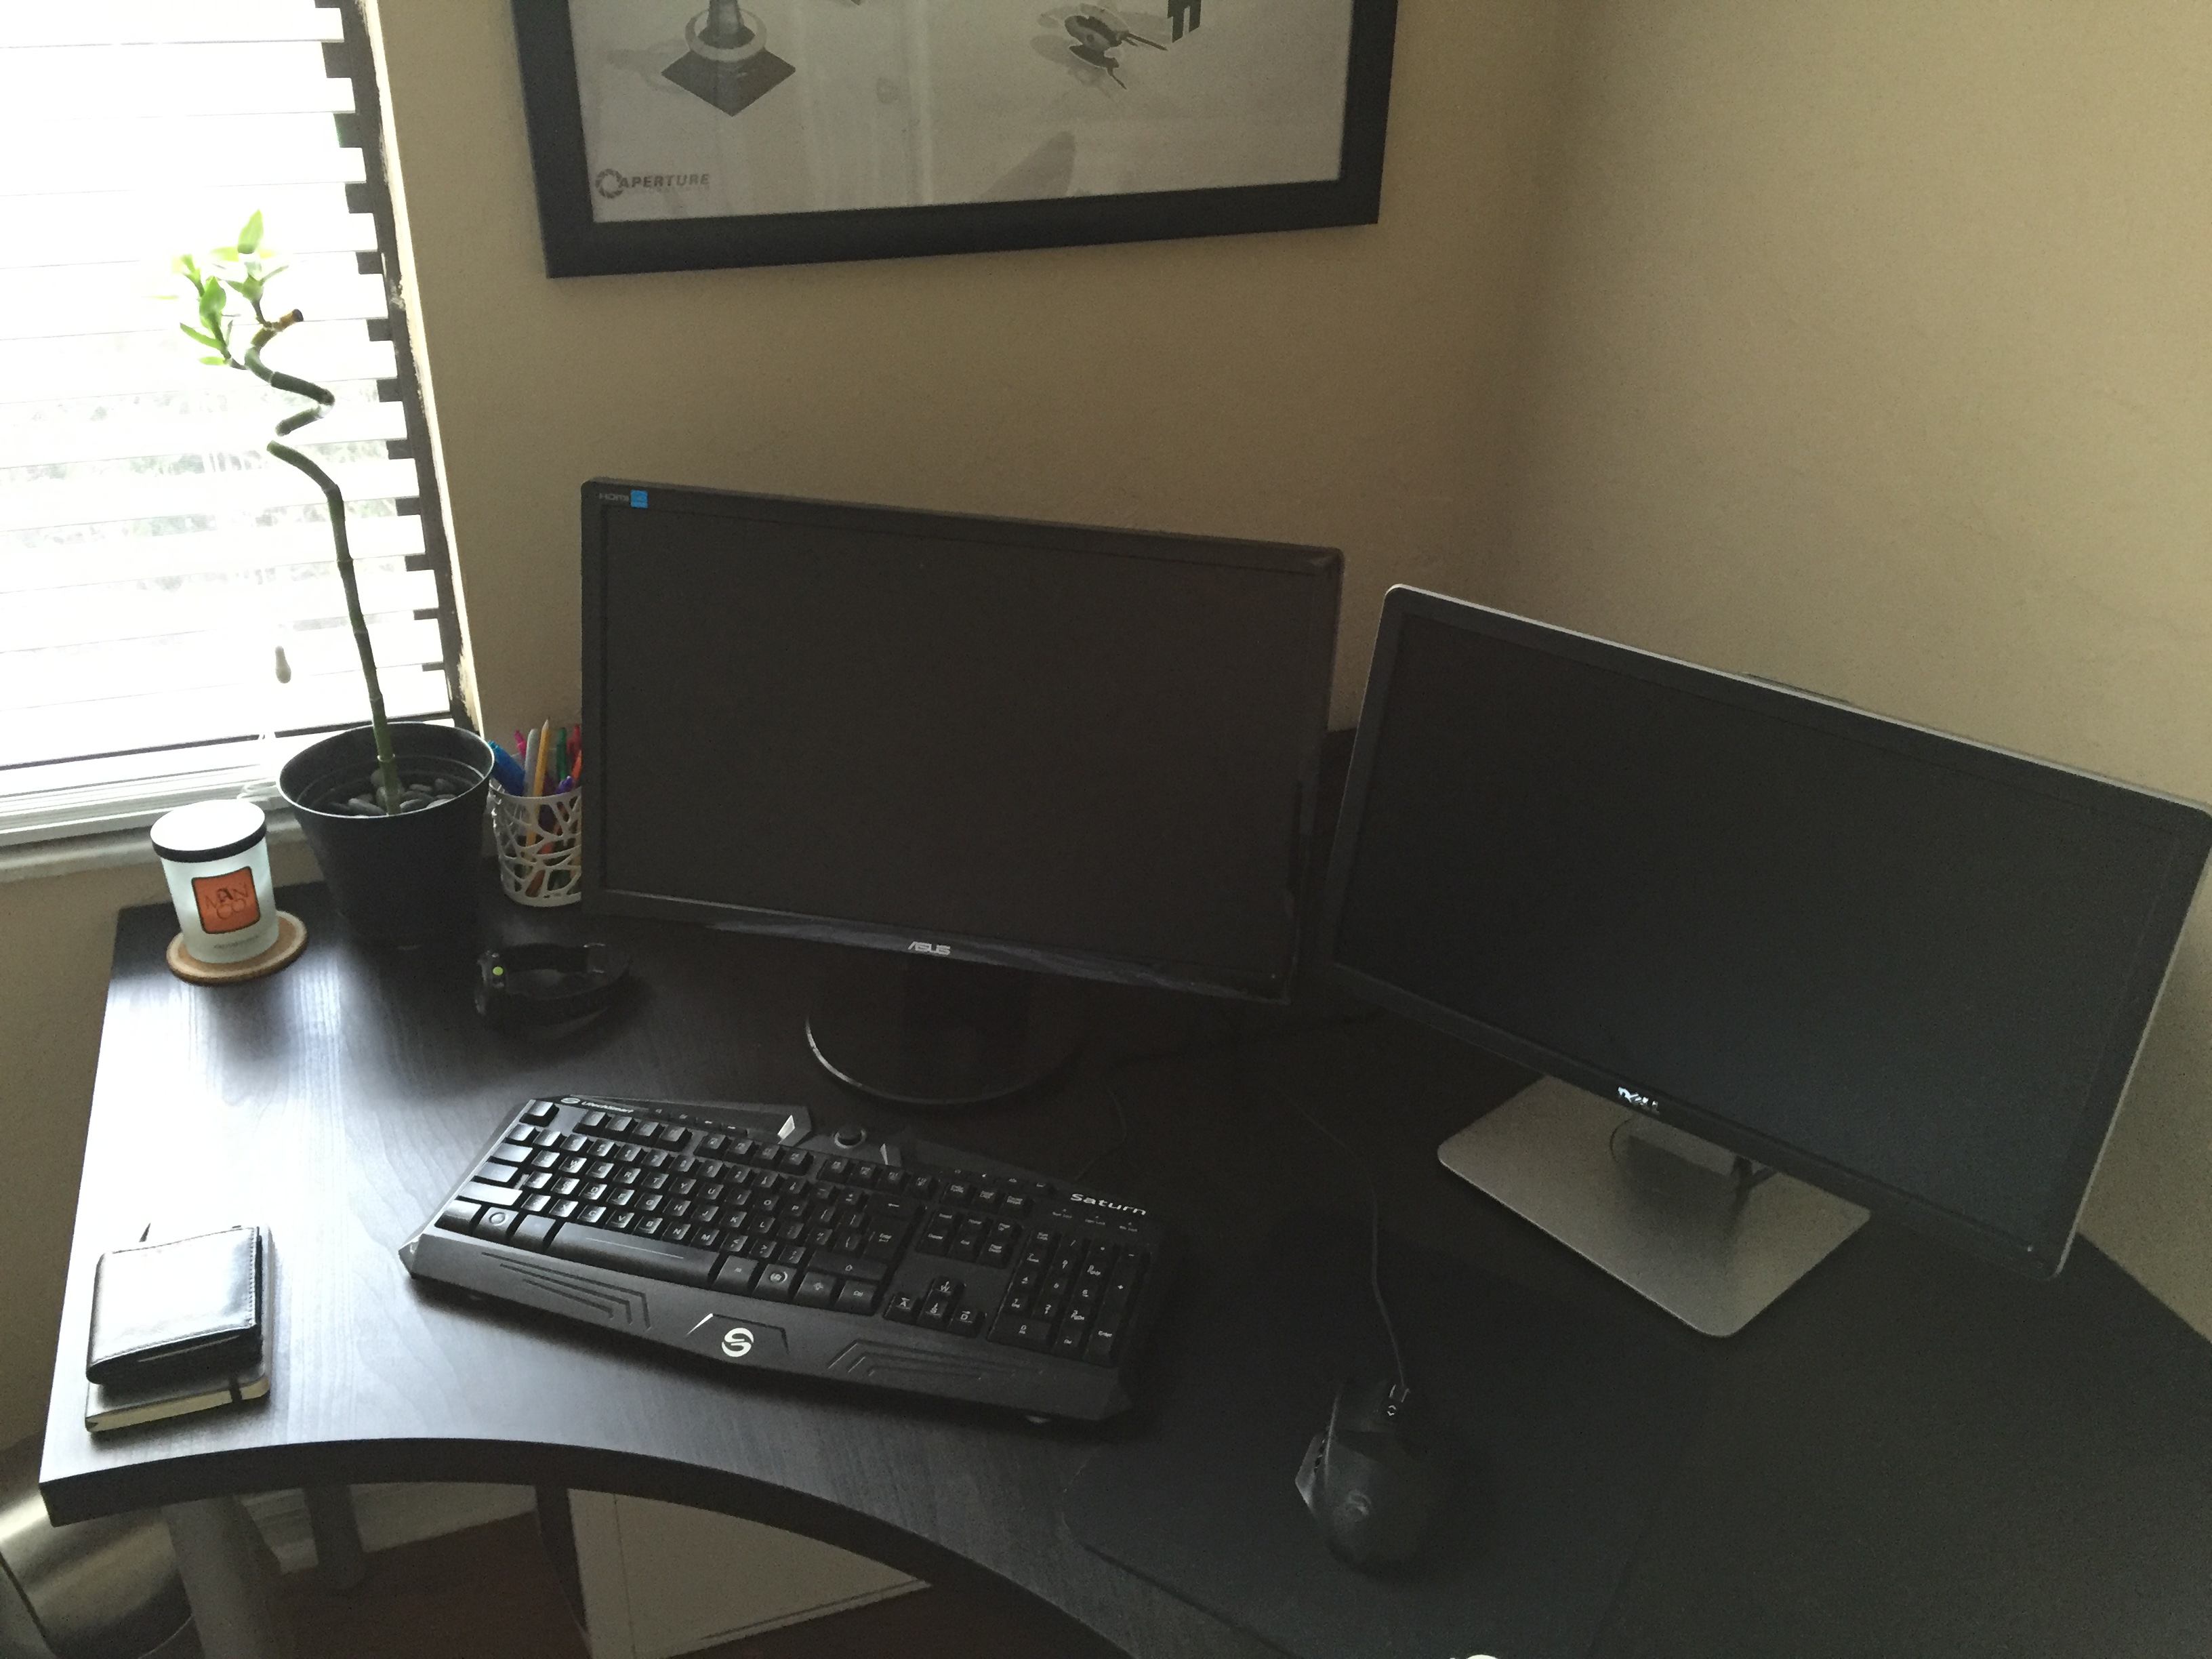Decoration (Candle): (150, 798, 286, 962)
Decoration (Picture): (509, 0, 1399, 281)
Decoration (Plant): (171, 211, 495, 943)
Decoration (Watch): (470, 936, 632, 1028)
Desk (Generic): (42, 847, 2212, 1657)
Keyboard (Generic): (397, 1091, 1184, 1427)
Monitor (Landscape): (1312, 582, 2212, 1337), (580, 472, 1346, 1121)
Mouse (Ergonomic): (1292, 1371, 1465, 1574)
Mousepad (Generic): (1059, 1209, 1705, 1659)
Notebook: (89, 1227, 279, 1436)
